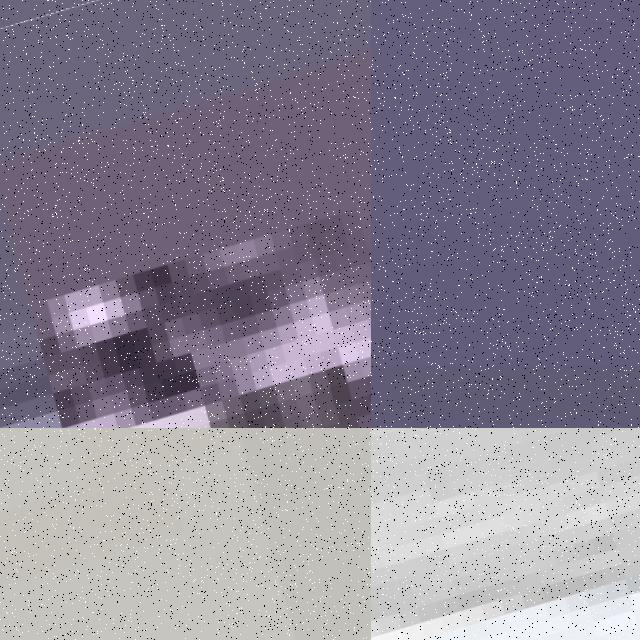drone: (0, 0, 371, 428), (0, 428, 371, 640), (371, 428, 640, 640)
